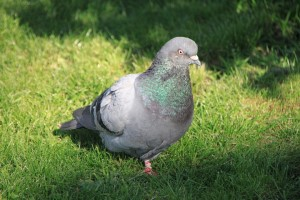pigeon: (57, 35, 204, 179)
